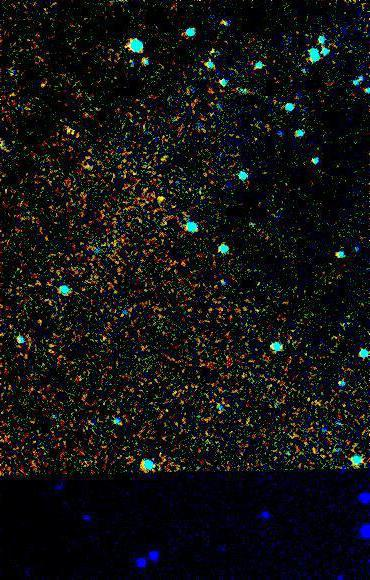star: (146, 187, 176, 217)
